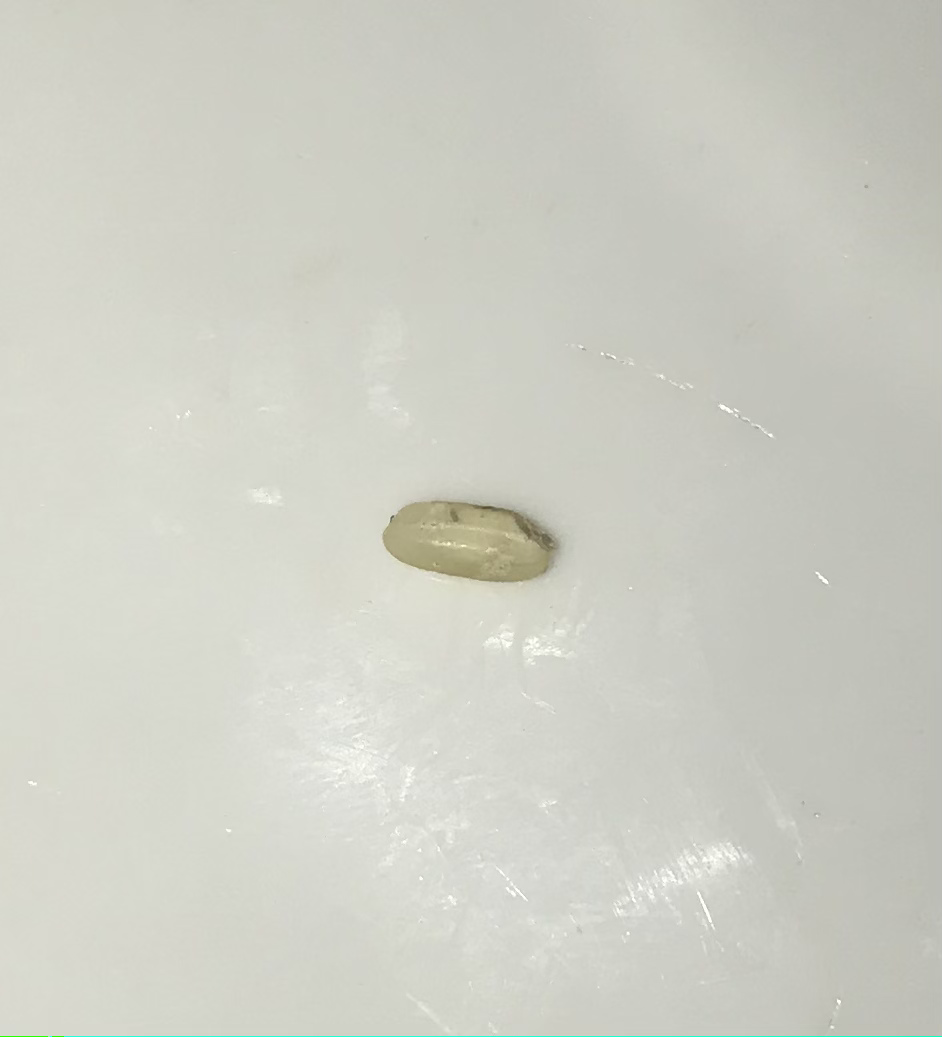Gao Lut Trang: (380, 494, 570, 603)
